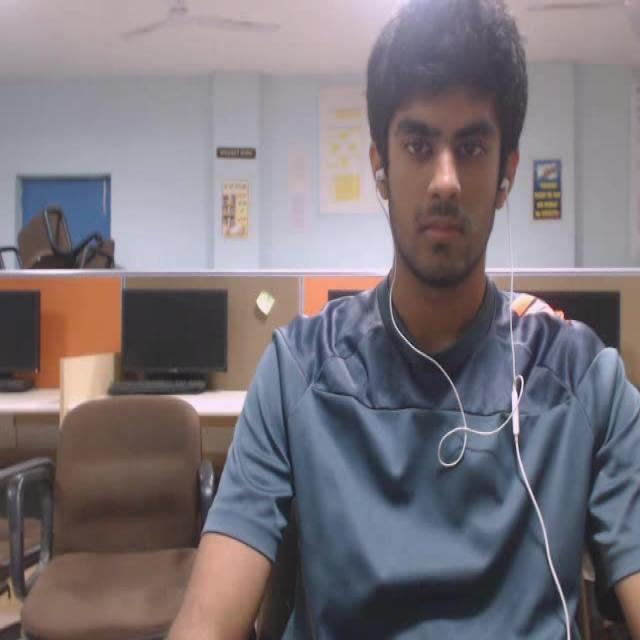Engaged: (344, 0, 538, 329)
